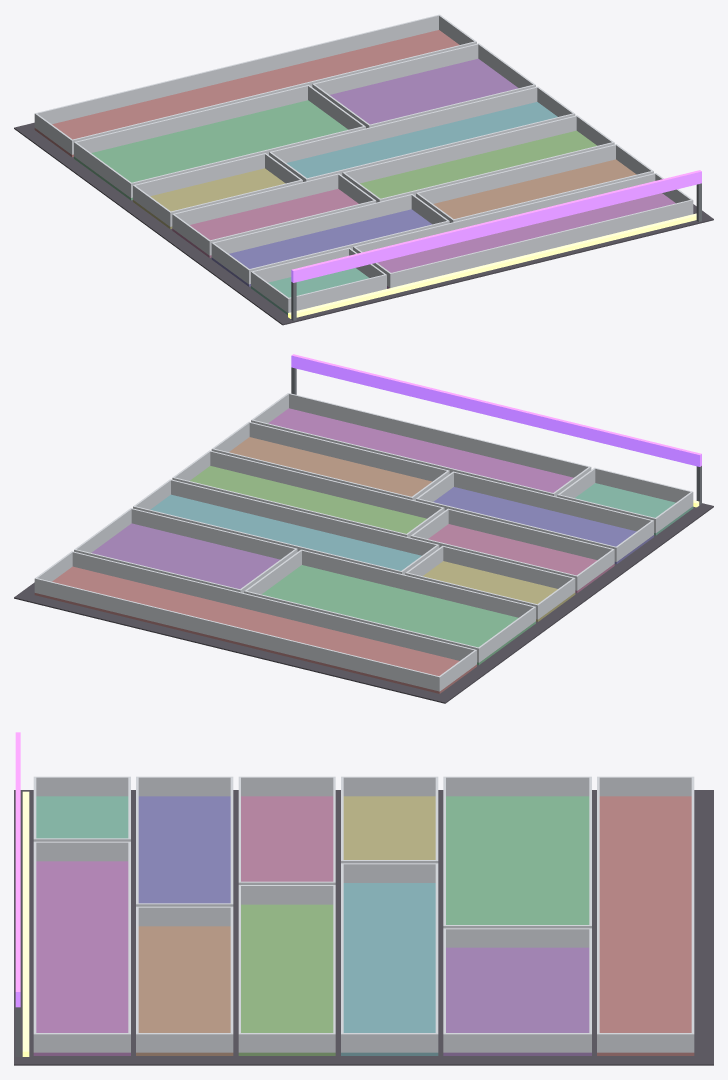
Rendered from hall-marine-terminal.glb.
The picture shows the model from 3 angles, top to bottom: view 1: azimuth 30°, elevation 25°; view 2: azimuth 150°, elevation 25°; view 3: azimuth 270°, elevation 25°; orthographic projection. The views are drawn at different scales.
Parts seen in each view (by area): view 1: Marine Terminal Operators; view 2: Marine Terminal Operators; view 3: Marine Terminal Operators.
Boxes of the visible parts, <box> form: Marine Terminal Operators: <box>14,14,713,325</box>; Marine Terminal Operators: <box>14,354,713,703</box>; Marine Terminal Operators: <box>14,732,713,1065</box>.
Bounding box in the file's own units: 38 × 4.3 × 41.
